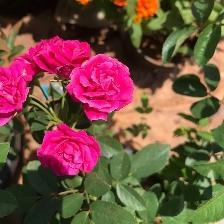rose: (66, 53, 137, 124), (40, 122, 100, 176), (1, 51, 33, 134), (32, 38, 91, 77)
